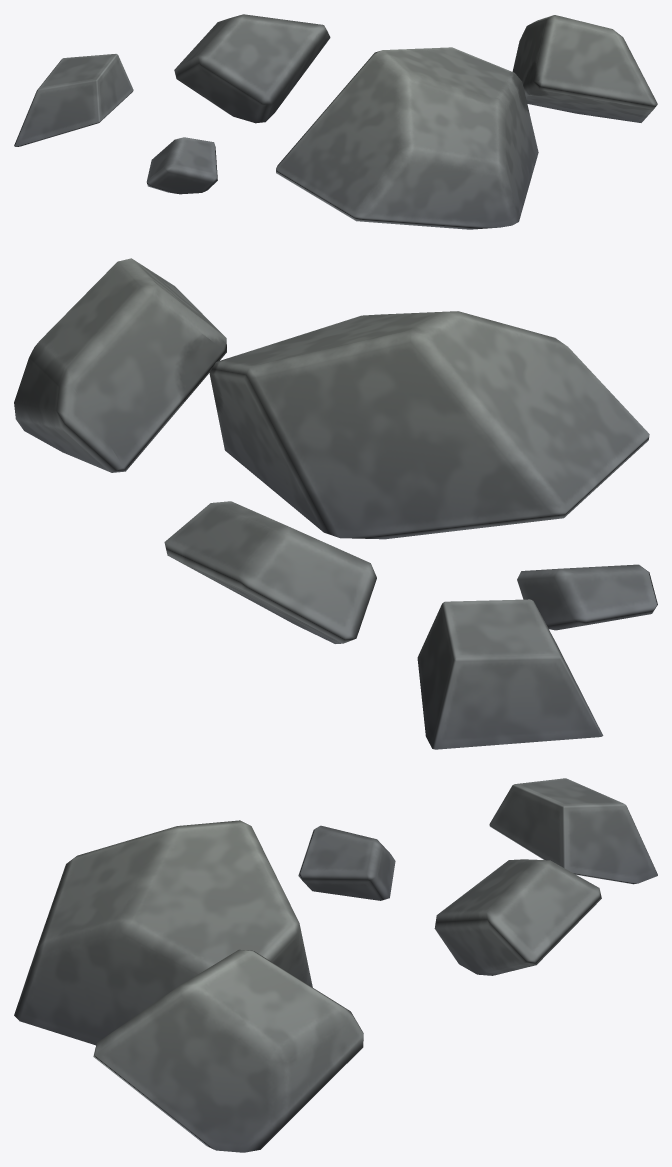
Rendered from rubble_1.glb.
3 renders of one model, top to bottom at view 1: azimuth 30°, elevation 25°; view 2: azimuth 150°, elevation 25°; view 3: azimuth 270°, elevation 25°, orthographic. The views are drawn at different scales.
Visible parts, largest first — view 1: rubble_1; view 2: rubble_1; view 3: rubble_1.
Part boxes in pixels (x1=…): rubble_1: x1=14, y1=14, x2=657, y2=229; rubble_1: x1=14, y1=258, x2=657, y2=749; rubble_1: x1=14, y1=778, x2=657, y2=1152.
Bounding box in the file's own units: 0.6 × 0.14 × 0.5.
1 material, 1 textured.
